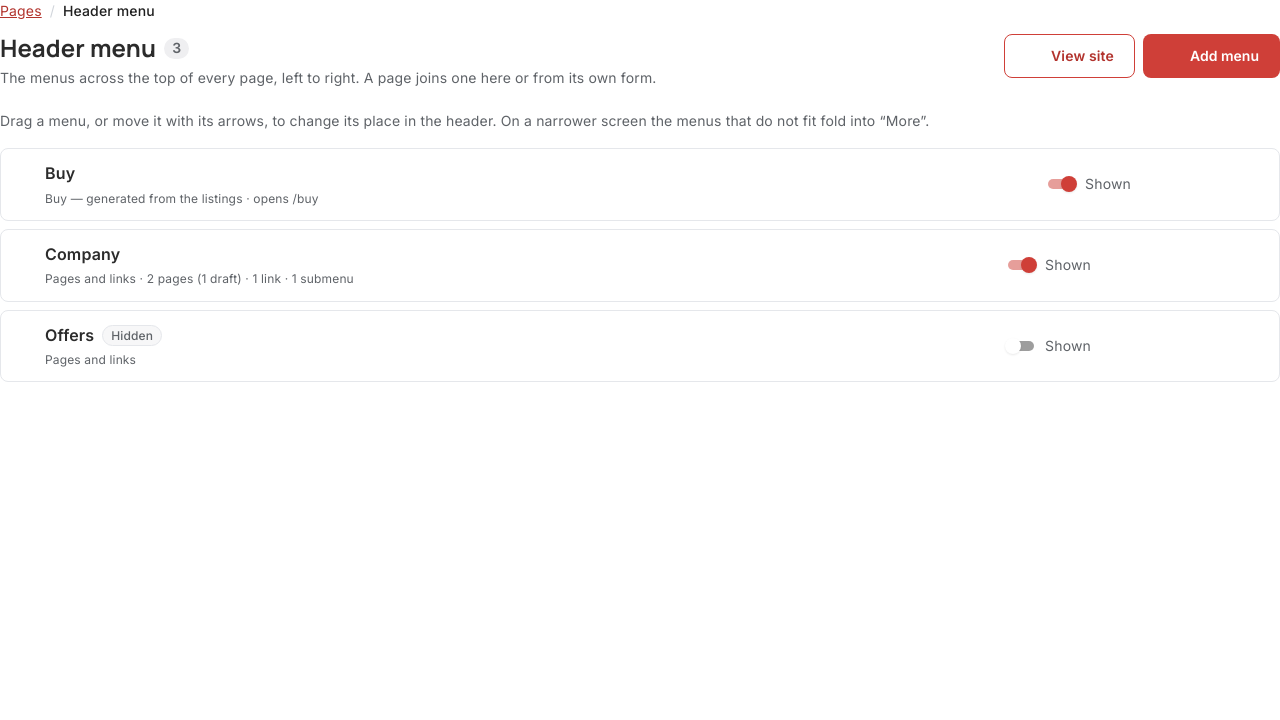
Test: HeaderMenusPage › paints the API’s refusal on the box that caused it
Click the button "Add menu".
click(1212, 56)  # box [1143,34,1279,78]
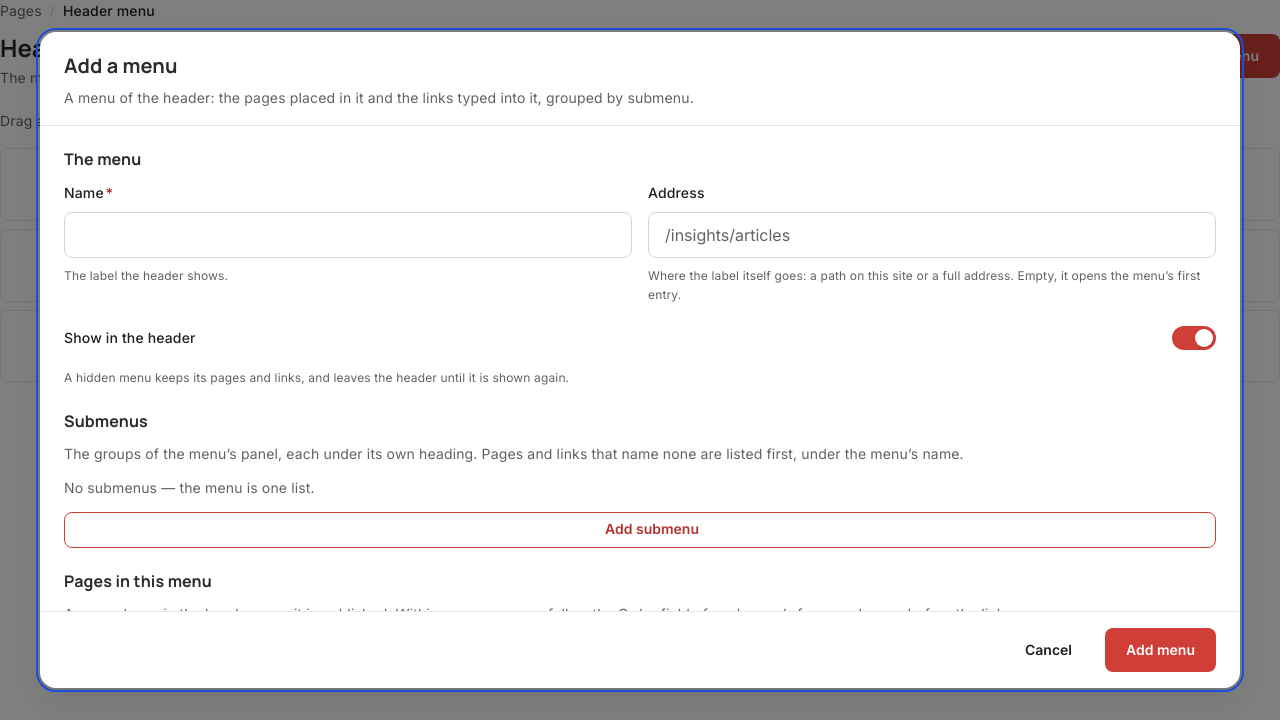
Type "Resources" into the field labelled "Name*".
click(348, 235); type("Resources")  # box [64,212,632,258]
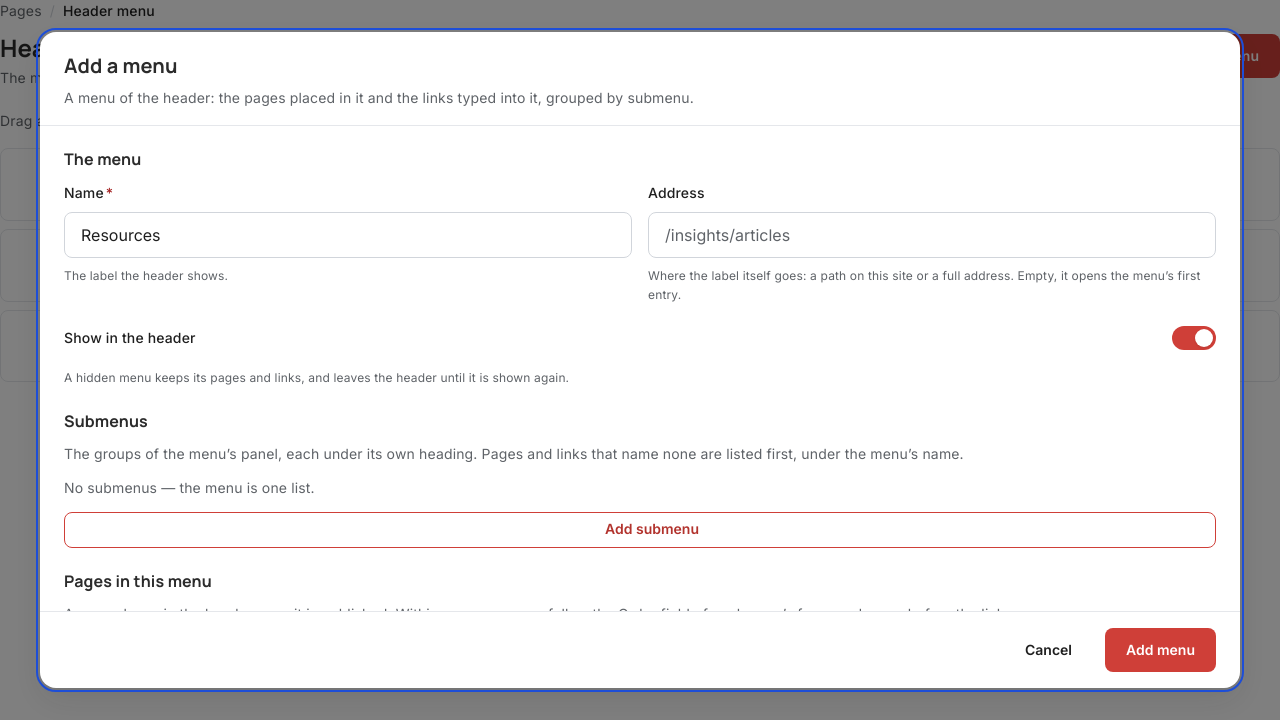
Click the button "Add menu".
click(1160, 650)  # box [1105,628,1216,672]
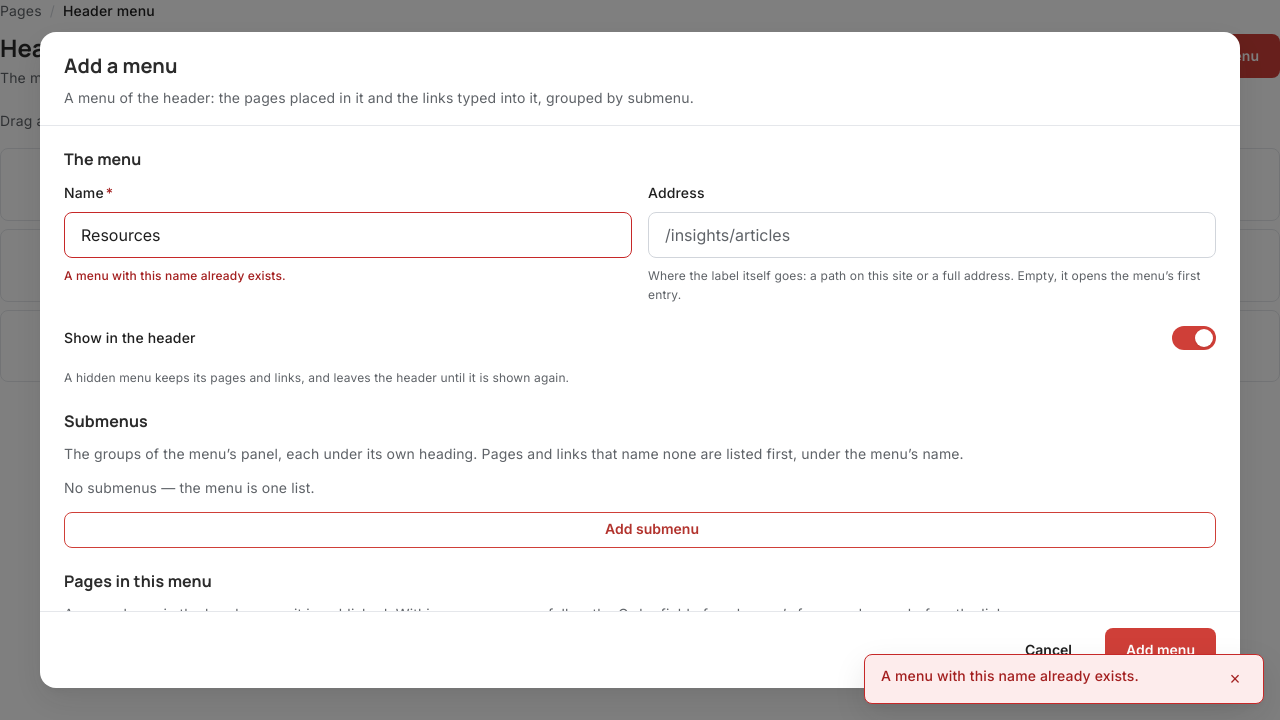
Now the text "A menu with this name already exists." is shown, box [64,268,286,283]
